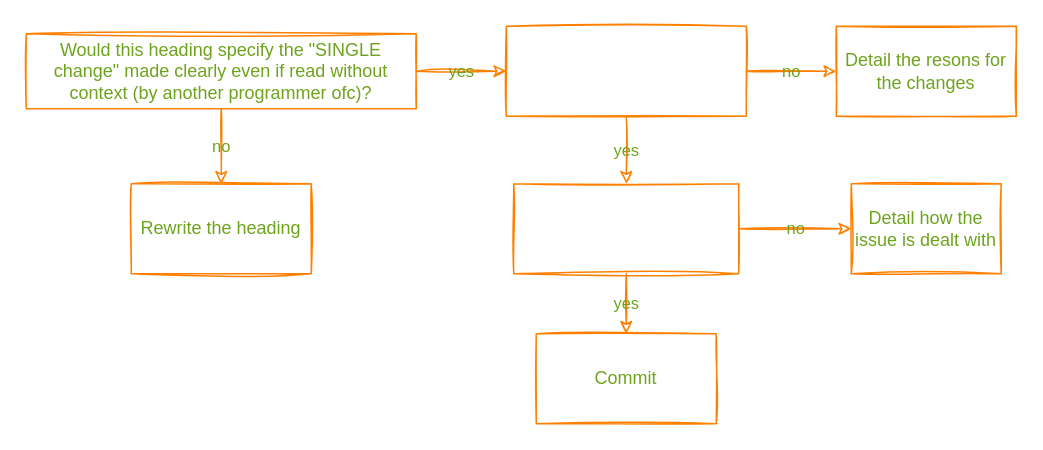
The diagram is 1043 pixels wide and 450 high, and some of its shapes have lost their labels. Here are the shapes that lost their labels. From the top down, the centre of each, then its label:
At [625,70]: "Does the body detail why changes were made?".
At [625,228]: "Does the body also detail how the changes adress the issue/feature-request?".
